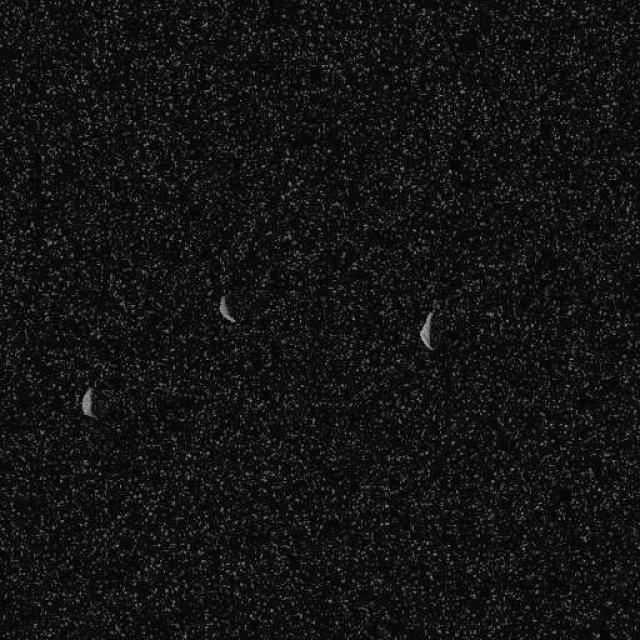D2: (417, 310, 435, 350), (216, 292, 236, 324), (80, 385, 96, 419)
